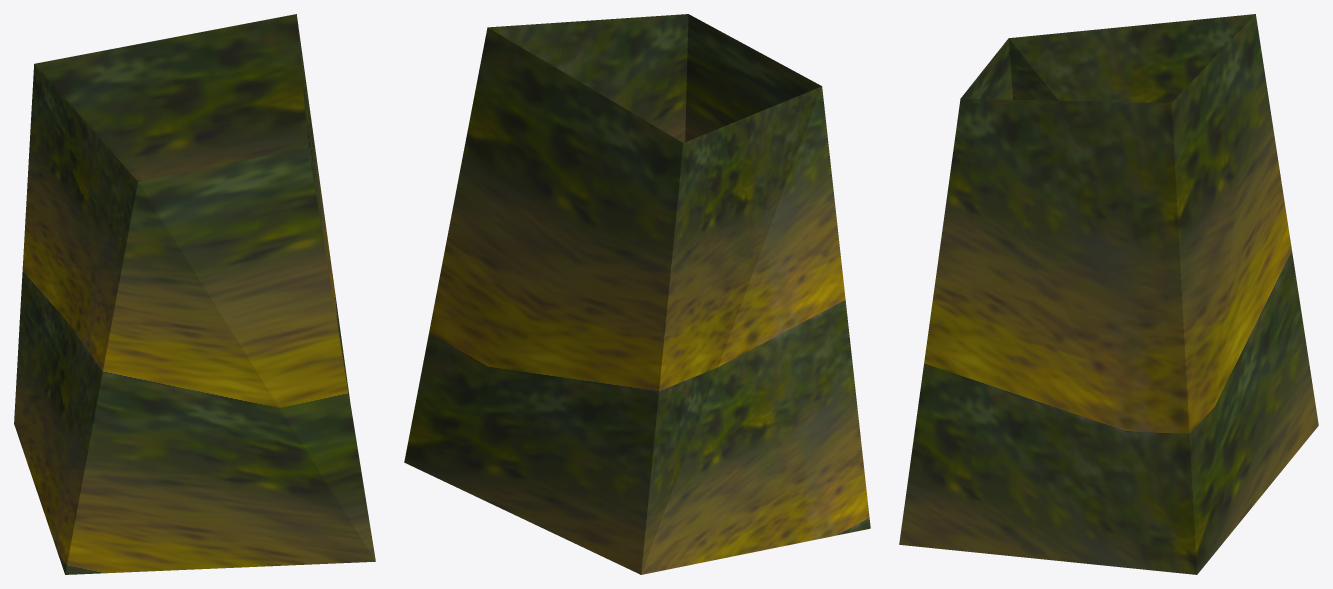
The model's file is Ridge_4_2_Lat.gltf.
3 views of the same model, side by side, from view 1: azimuth 30°, elevation 25°; view 2: azimuth 150°, elevation 25°; view 3: azimuth 270°, elevation 25° (orthographic). The views are drawn at different scales.
Parts seen in each view (by area): view 1: Ridge_4_2_Lat; view 2: Ridge_4_2_Lat; view 3: Ridge_4_2_Lat.
Part boxes in pixels (box(x1,y1,x2,y2)): Ridge_4_2_Lat: box(14, 14, 375, 574); Ridge_4_2_Lat: box(404, 14, 870, 574); Ridge_4_2_Lat: box(899, 14, 1318, 574).
Bounding box in the file's own units: 33.79 × 39.64 × 32.18.
1 material, 1 textured.
